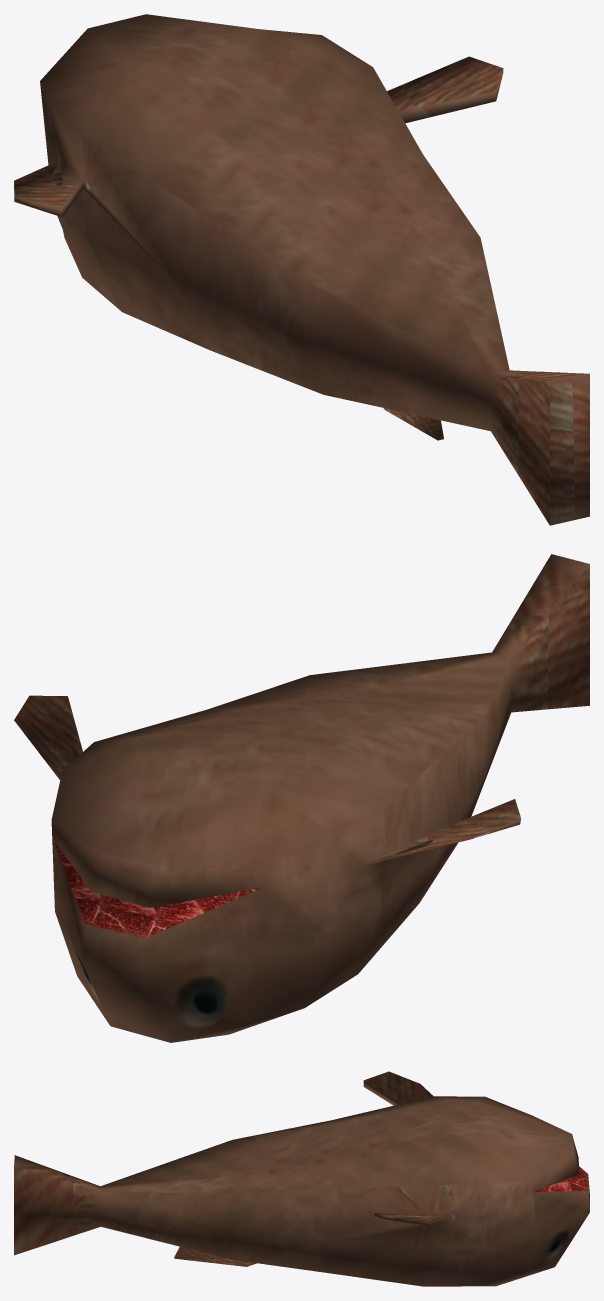
Rendered from blob_fish.fbx.
The picture shows the model from 3 angles, top to bottom: view 1: azimuth 30°, elevation 25°; view 2: azimuth 150°, elevation 25°; view 3: azimuth 270°, elevation 25°; orthographic projection. The views are drawn at different scales.
Visible parts, largest first — view 1: Cube; view 2: Cube; view 3: Cube.
Boxes of the visible parts, box(x1,y1,x2,y2) form: Cube: box(14, 14, 589, 525); Cube: box(14, 554, 589, 1042); Cube: box(14, 1071, 589, 1286).
Size of the model in its own units: 525 by 249 by 859.
1 material, 1 textured.
